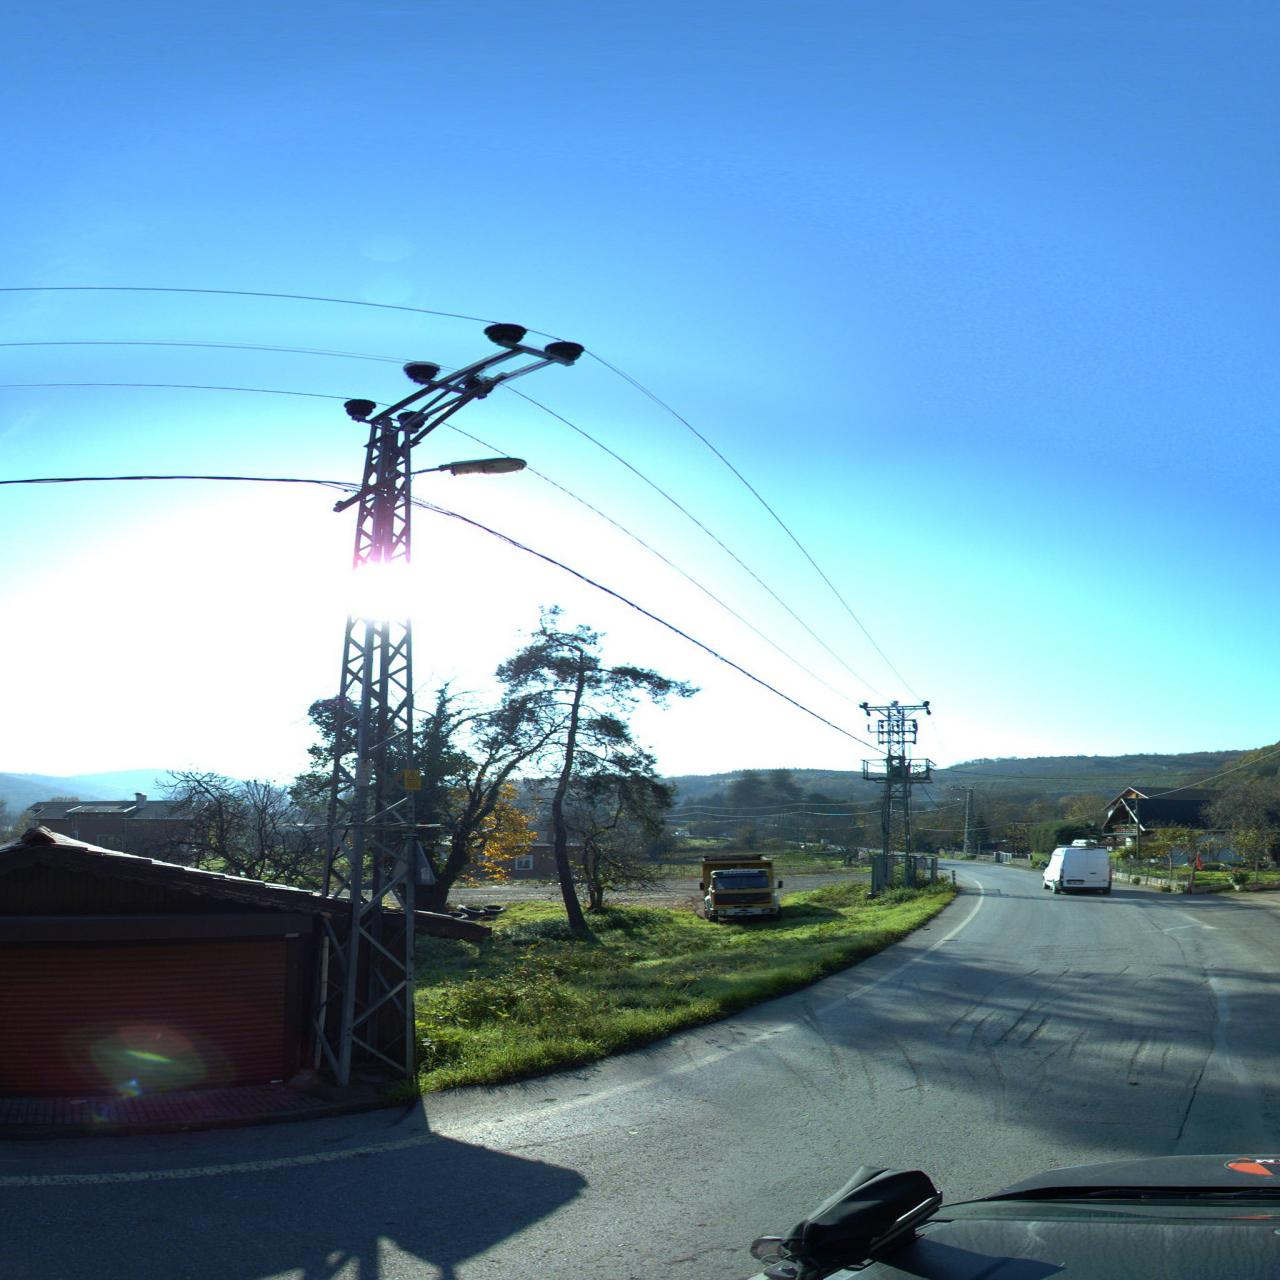Utility Pole Information Plate: (406, 769, 422, 791)
